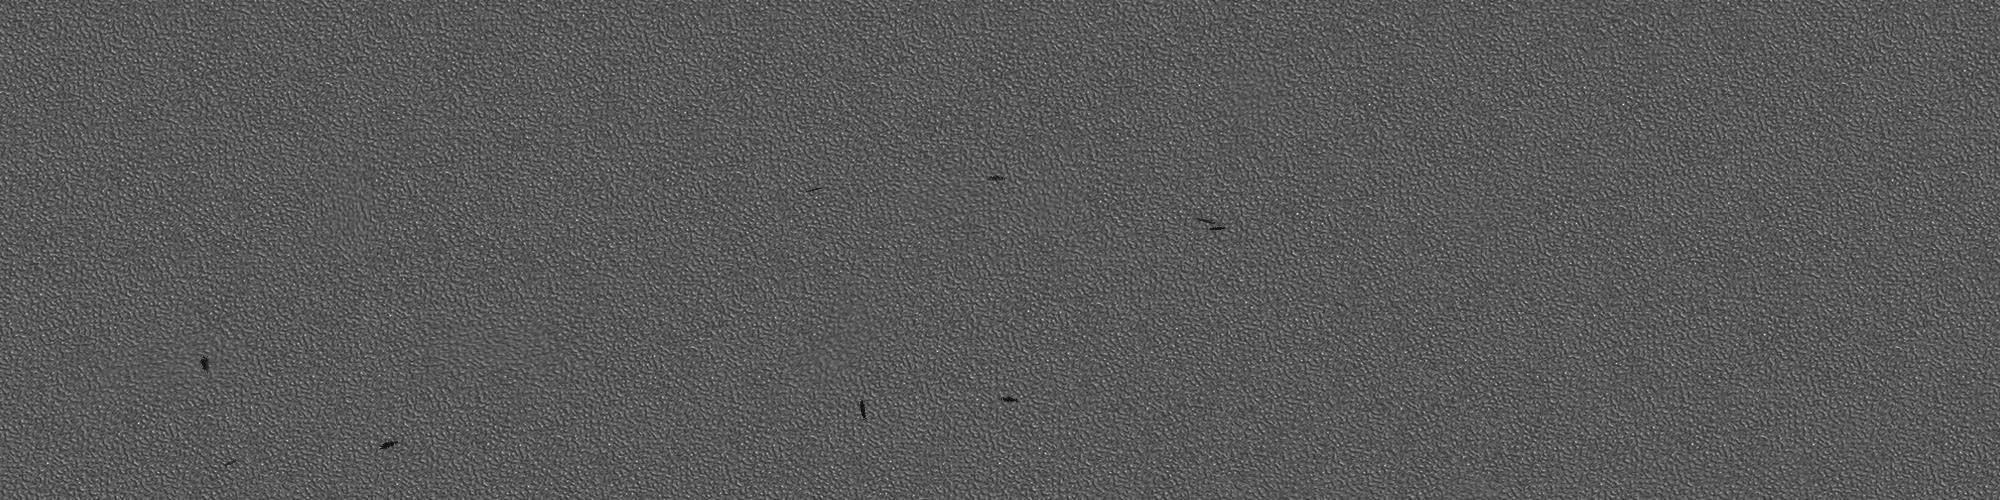Decomposed: (1195, 212, 1230, 239), (991, 392, 1031, 412), (193, 348, 216, 381), (372, 432, 401, 455), (852, 393, 872, 423), (793, 184, 828, 202), (983, 168, 1003, 190), (223, 452, 242, 471)
